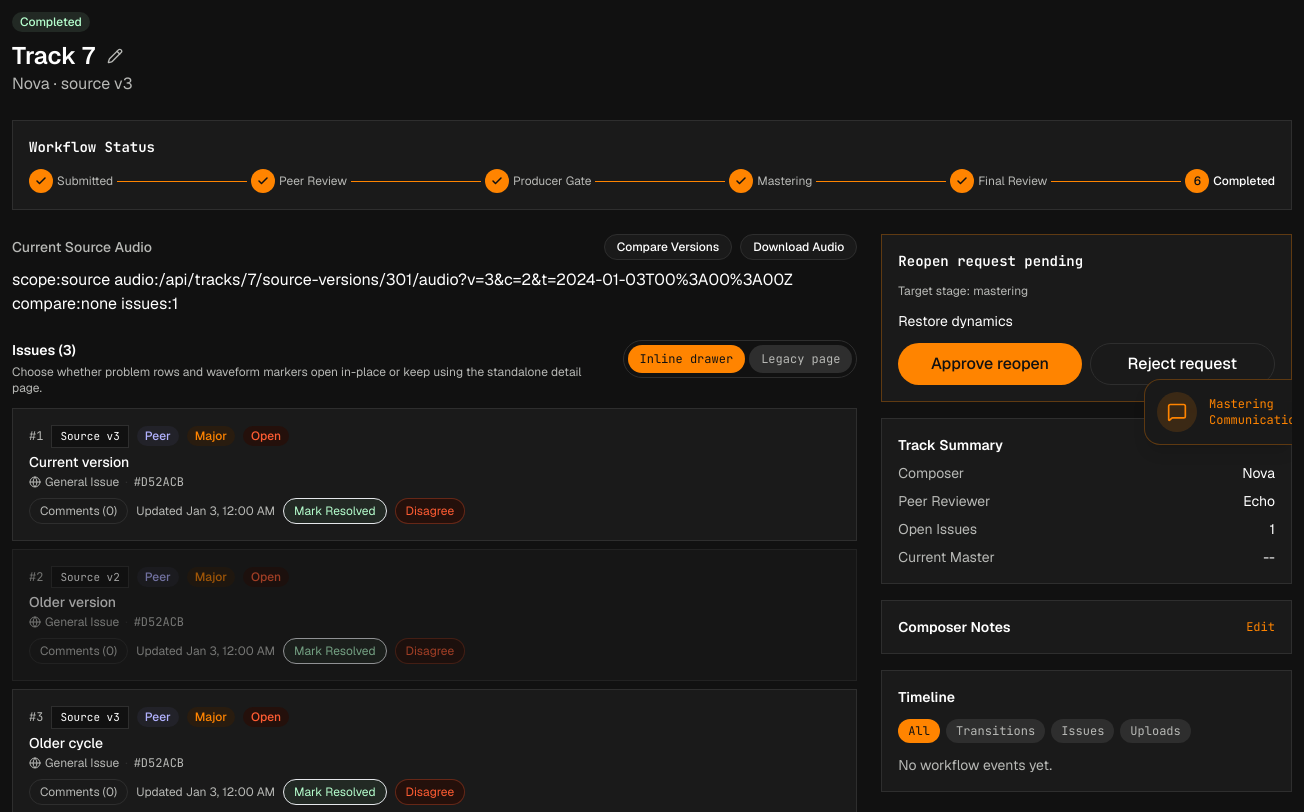
Test: TrackDetailView › clears the pending reopen card after approve and reloads the next task
The image size is (1304, 812).
Click the button "Approve reopen": (990, 364) [898,343,1082,385]
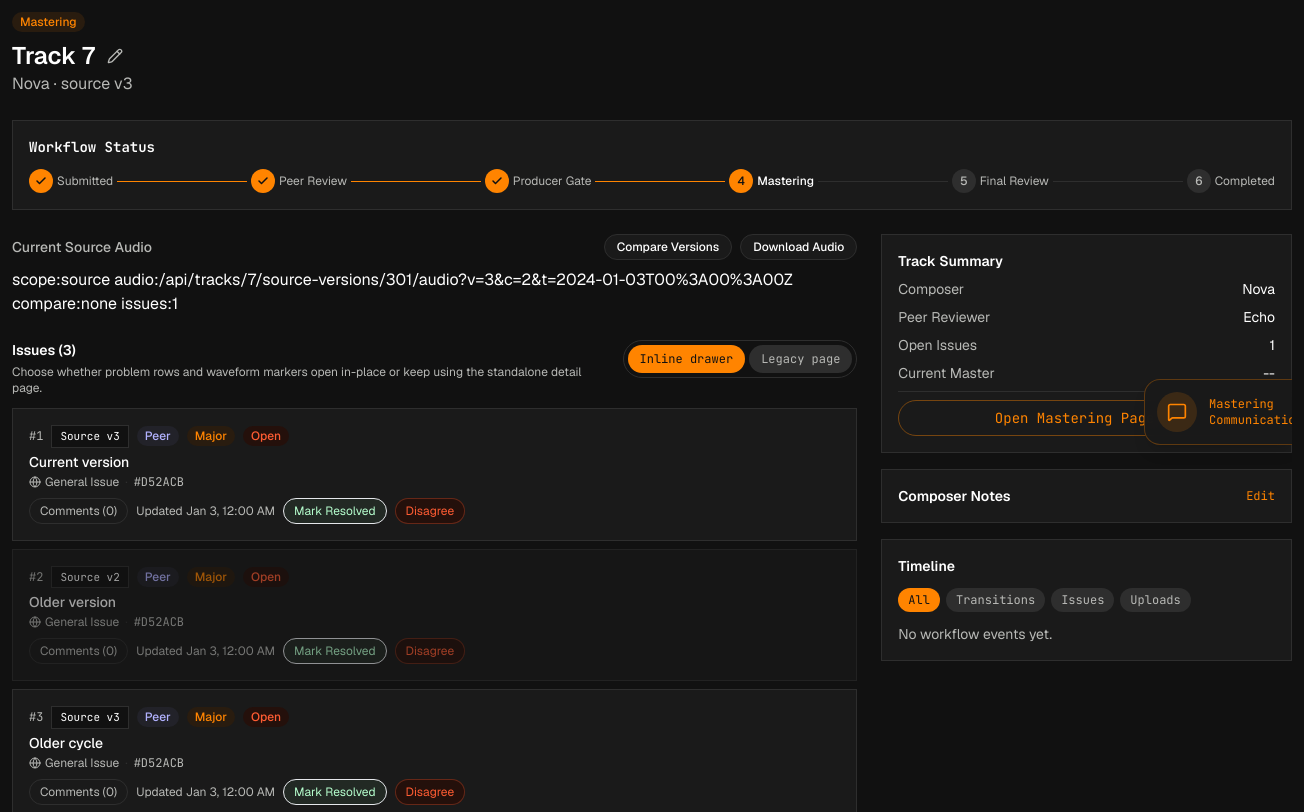
Now the text "Restore dynamics" is gone
Now the text "Reopen request pending" is gone
